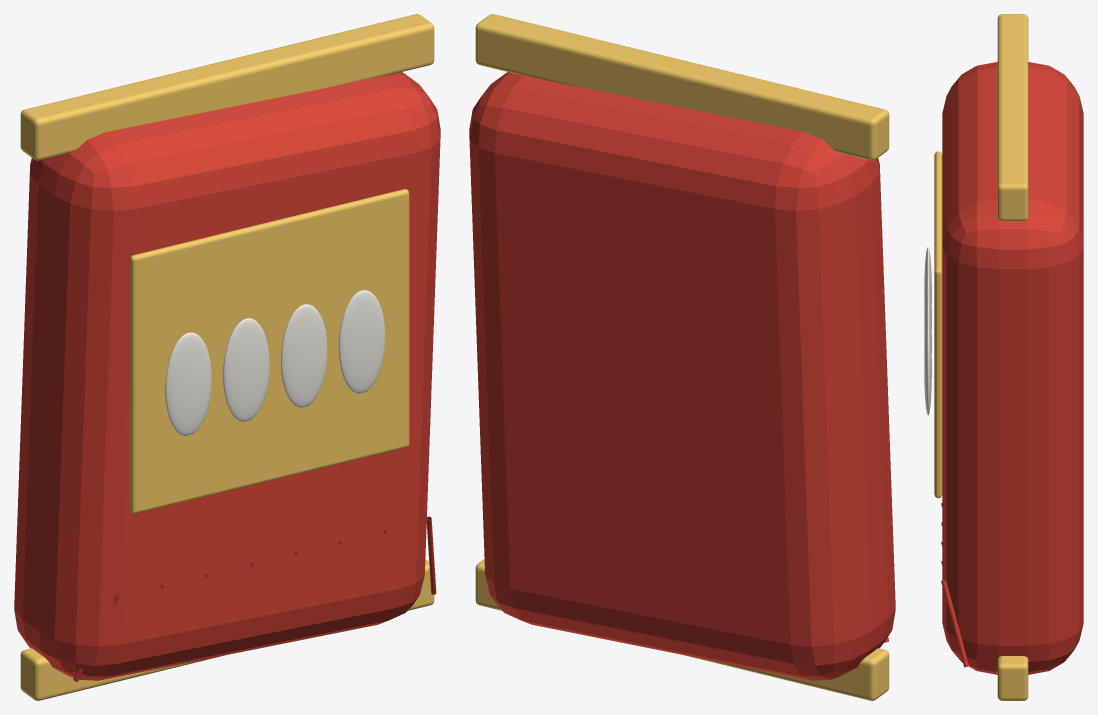
3 renders of one model, left to right at view 1: azimuth 30°, elevation 25°; view 2: azimuth 150°, elevation 25°; view 3: azimuth 270°, elevation 25°, orthographic. The views are drawn at different scales.
Visible parts, largest first — view 1: Pouch, Front label, Crimp.001, Snack illustration.002, Snack illustration.001, Snack illustration, Snack illustration.003, Crimp; view 2: Pouch, Crimp.001, Crimp; view 3: Pouch, Crimp.001, Front label, Crimp, Snack illustration.003, Packaging fold.007.
Part boxes in pixels (x1,y1,x2,y2): Pouch: (14,72,440,680); Front label: (130,189,409,513); Crimp.001: (20,14,434,160); Snack illustration.002: (281,304,327,407); Snack illustration.001: (223,318,269,421); Snack illustration: (165,332,211,435); Snack illustration.003: (338,290,385,393); Crimp: (20,559,434,700); Pouch: (469,72,895,680); Crimp.001: (475,14,889,160); Crimp: (475,559,889,700); Pouch: (942,62,1083,674); Crimp.001: (997,14,1028,221); Front label: (934,151,942,498); Crimp: (997,656,1028,700); Snack illustration.003: (924,322,931,415); Packaging fold.007: (941,579,968,667).
Bounding box in the file's own units: 0.18 × 0.25 × 0.07.
